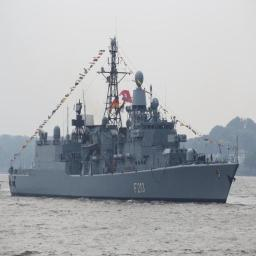Fragata: (3, 34, 242, 205)
